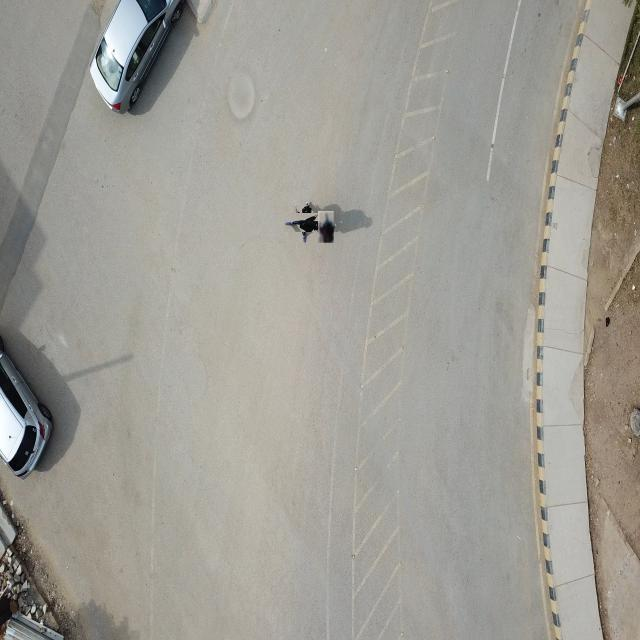Manusia: (289, 207, 320, 239), (318, 211, 335, 244)
